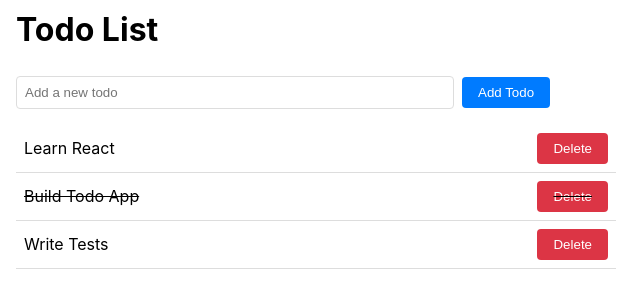
Test case: TodoList Component › deletes a todo item
Click the button with test id "delete-button-1": (573, 148) 538,133 -> 608,164
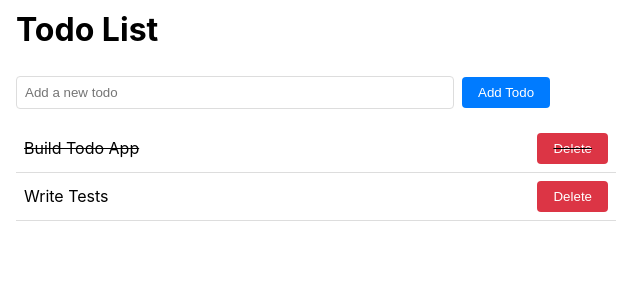
Expected: the text "Learn React" is gone
